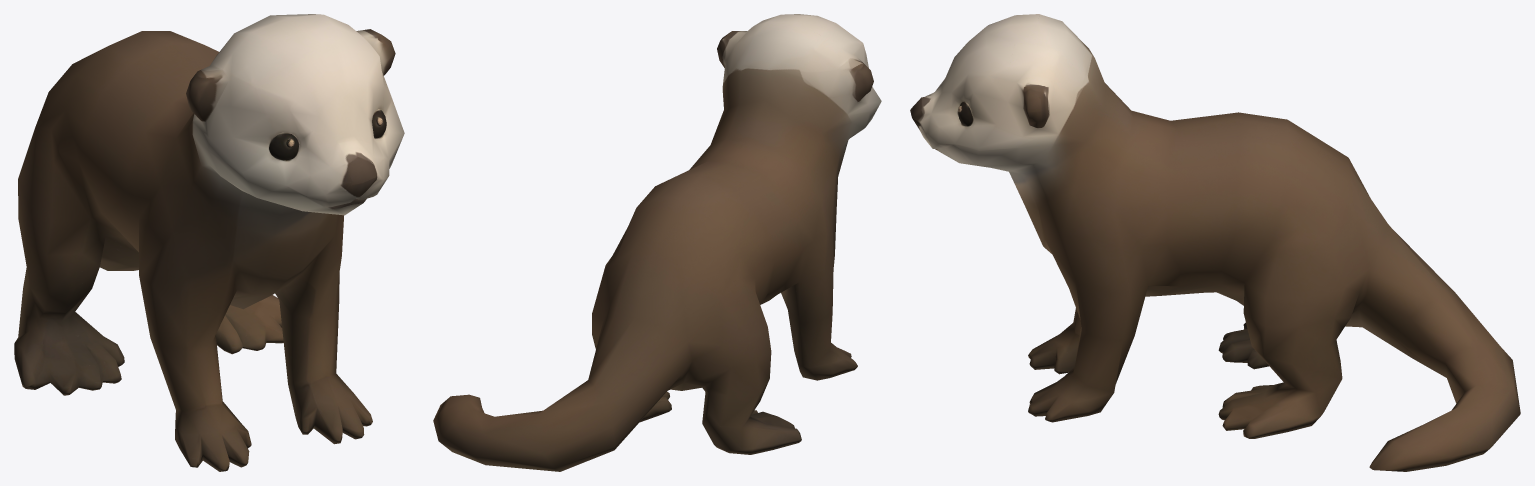
Rendered from low-poly_otter_3d_model.fbx.
3 renders of one model, left to right at view 1: azimuth 30°, elevation 25°; view 2: azimuth 150°, elevation 25°; view 3: azimuth 270°, elevation 25°, orthographic. The views are drawn at different scales.
Parts seen in each view (by area): view 1: tripo_0646e9c7_c795_4aa1_91c9_bf171dacc139; view 2: tripo_0646e9c7_c795_4aa1_91c9_bf171dacc139; view 3: tripo_0646e9c7_c795_4aa1_91c9_bf171dacc139.
Boxes of the visible parts, x1=… form: tripo_0646e9c7_c795_4aa1_91c9_bf171dacc139: x1=14, y1=14, x2=404, y2=471; tripo_0646e9c7_c795_4aa1_91c9_bf171dacc139: x1=433, y1=14, x2=881, y2=471; tripo_0646e9c7_c795_4aa1_91c9_bf171dacc139: x1=910, y1=14, x2=1520, y2=471.
Bounding box in the file's own units: 0.6138 × 0.6587 × 0.9995.
Materials: 1 (1 with a texture image).
